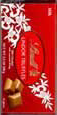grozi_64: (0, 0, 56, 114)
